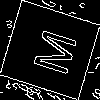M: (24, 25, 78, 77)
